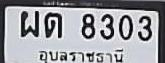0: (118, 14, 132, 39)
3: (137, 14, 151, 40), (99, 13, 113, 39)
8: (80, 13, 94, 38)
A21: (44, 11, 61, 37)
A28: (20, 10, 38, 36)
UBN: (37, 47, 126, 63)
